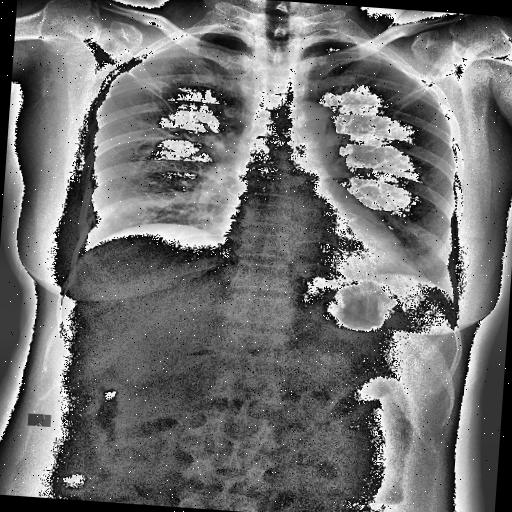0- Aortic enlargement: (278, 98, 345, 162), (282, 102, 340, 154), (286, 100, 340, 152)
3- Cardiomegaly: (216, 208, 409, 273)
